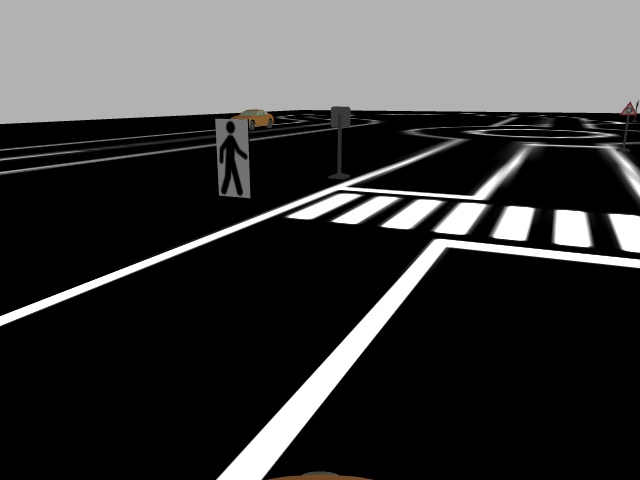pedestrian: (213, 117, 252, 199)
